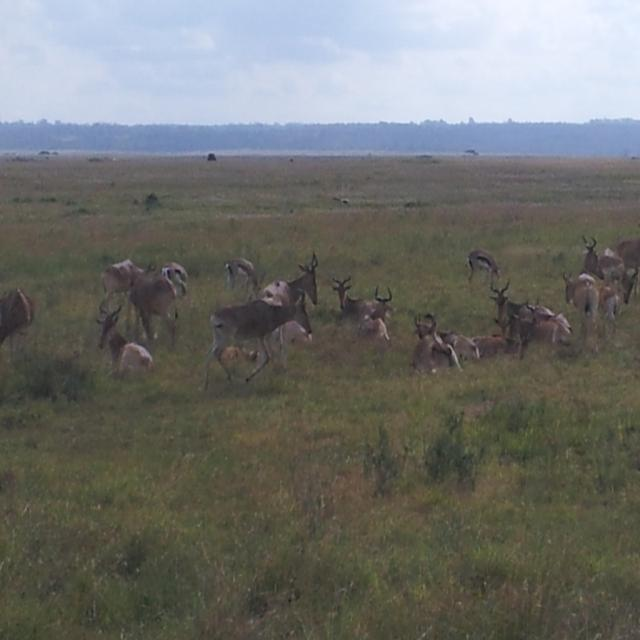Deer: (207, 290, 316, 388), (125, 262, 181, 351), (94, 302, 155, 380), (254, 252, 320, 306), (98, 258, 158, 316), (505, 303, 571, 350), (561, 270, 600, 343), (410, 310, 459, 366), (490, 283, 544, 333), (331, 278, 395, 320), (0, 282, 33, 361), (354, 286, 395, 343), (578, 236, 629, 281), (437, 322, 480, 368), (615, 232, 640, 302), (463, 247, 502, 290), (225, 254, 262, 296), (468, 333, 521, 359), (157, 263, 190, 296)
